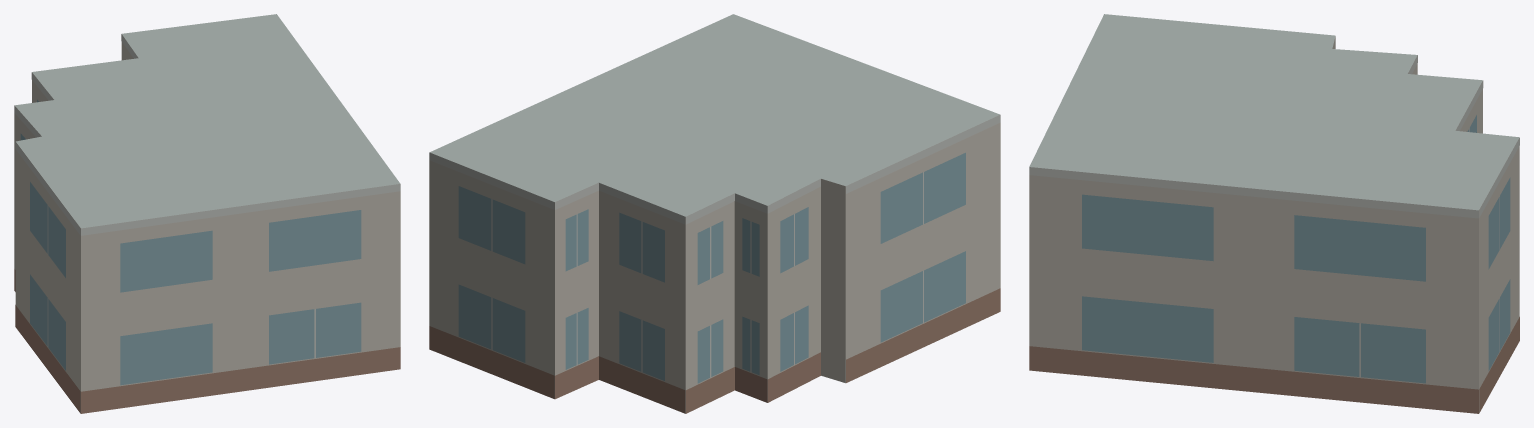
Rendered from survey-upis-32721893.glb.
3 renders of one model, left to right at view 1: azimuth 30°, elevation 25°; view 2: azimuth 150°, elevation 25°; view 3: azimuth 270°, elevation 25°, orthographic. The views are drawn at different scales.
Visible parts, largest first — view 1: survey-upis-32721893.tmp; view 2: survey-upis-32721893.tmp; view 3: survey-upis-32721893.tmp.
Boxes of the visible parts, x1,y1,x2,y2 form: survey-upis-32721893.tmp: (14, 14, 400, 413); survey-upis-32721893.tmp: (429, 14, 1000, 413); survey-upis-32721893.tmp: (1029, 14, 1519, 413).
Bounding box in the file's own units: 12.64 × 6.1 × 13.34.
